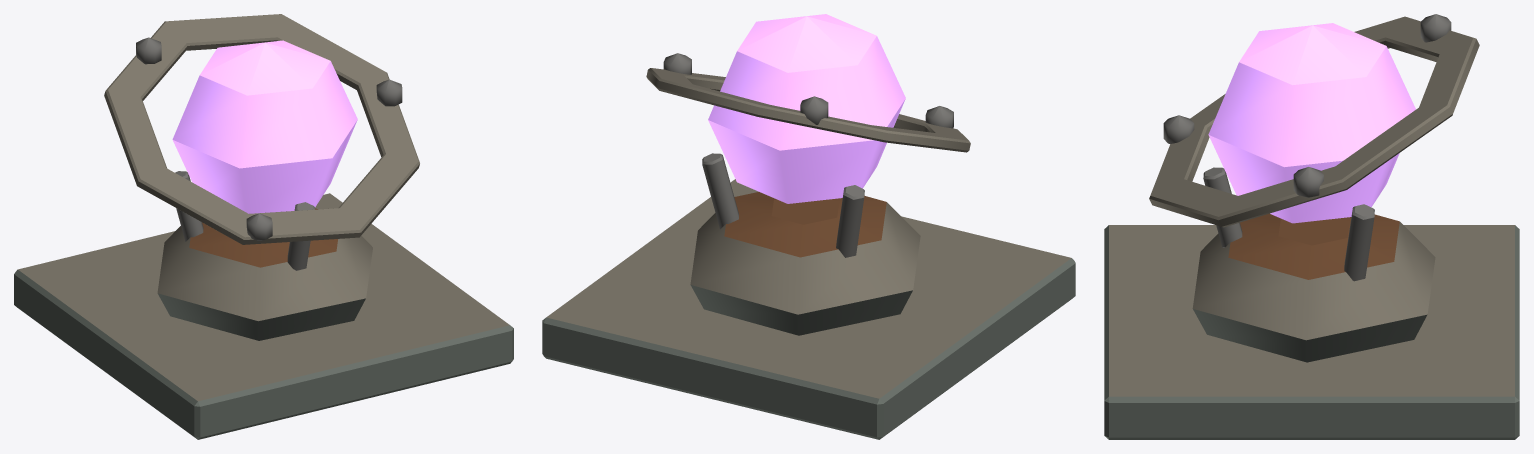
Rendered from R4X_OrbAmplifier_LOD1.fbx.
3 views of the same model, side by side, from view 1: azimuth 30°, elevation 25°; view 2: azimuth 150°, elevation 25°; view 3: azimuth 270°, elevation 25° (orthographic). The views are drawn at different scales.
Parts seen in each view (by area): view 1: R4X_OrbAmplifier_LOD1; view 2: R4X_OrbAmplifier_LOD1; view 3: R4X_OrbAmplifier_LOD1.
Part boxes in pixels (box(x1,y1,x2,y2)): R4X_OrbAmplifier_LOD1: box(14, 14, 513, 439); R4X_OrbAmplifier_LOD1: box(542, 14, 1075, 439); R4X_OrbAmplifier_LOD1: box(1104, 14, 1519, 439).
Size of the model in its own units: 0.52 by 0.455 by 0.52.
